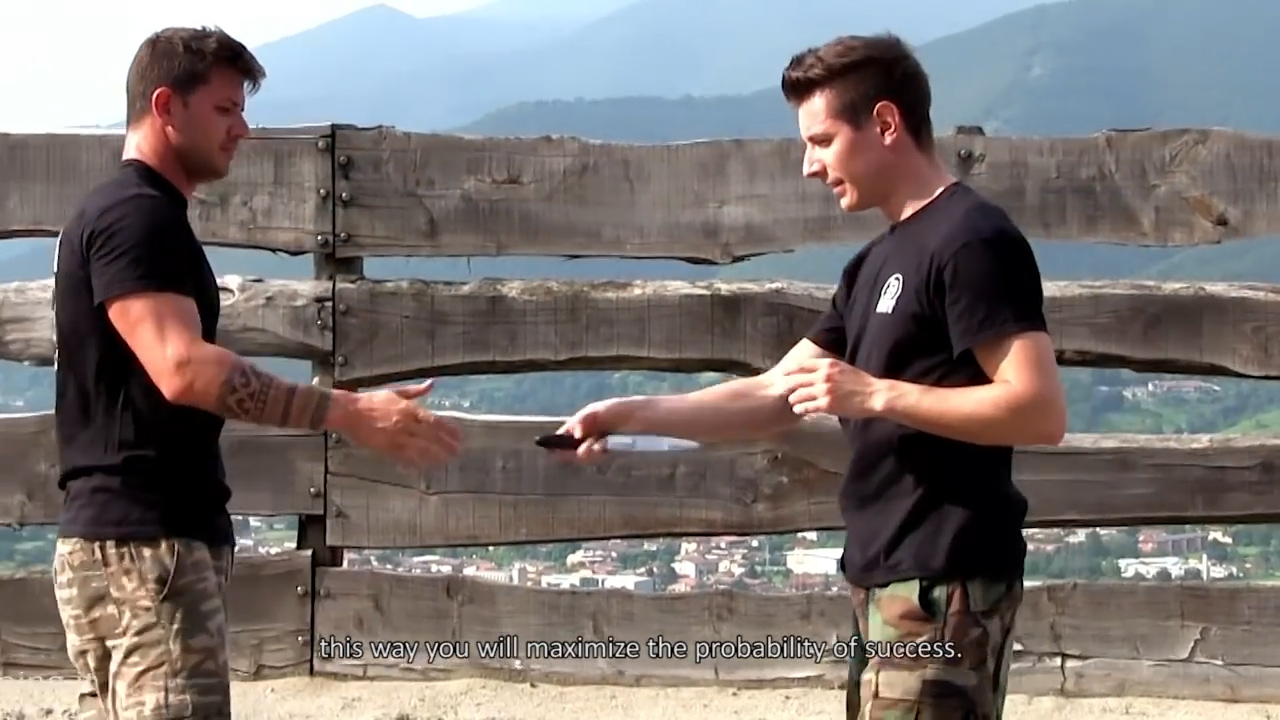knife: (530, 416, 712, 460)
